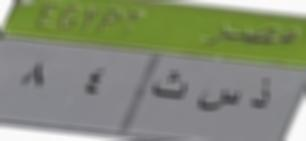4: (75, 61, 118, 99)
8: (16, 55, 49, 90)
seen: (193, 85, 245, 112)
thaa: (152, 68, 189, 103)
zaal: (247, 73, 275, 113)
